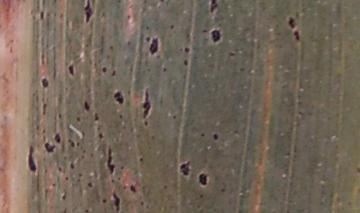tarspot: (24, 143, 39, 172), (105, 144, 118, 175), (140, 86, 152, 119), (177, 158, 193, 179), (146, 34, 161, 56), (82, 1, 94, 27), (111, 188, 123, 213), (209, 26, 223, 46), (196, 170, 210, 188), (39, 73, 51, 91), (113, 88, 125, 106), (207, 1, 221, 16), (65, 61, 77, 77), (286, 15, 298, 30), (53, 130, 64, 146), (80, 98, 91, 112), (42, 140, 53, 154), (67, 134, 76, 150), (210, 130, 221, 143), (291, 30, 302, 43), (85, 178, 96, 191), (91, 110, 101, 123), (109, 66, 118, 79), (68, 158, 76, 172), (99, 195, 109, 206), (182, 43, 191, 55), (97, 130, 105, 143), (128, 183, 138, 193), (99, 66, 109, 76), (182, 58, 191, 68), (74, 115, 83, 125)
